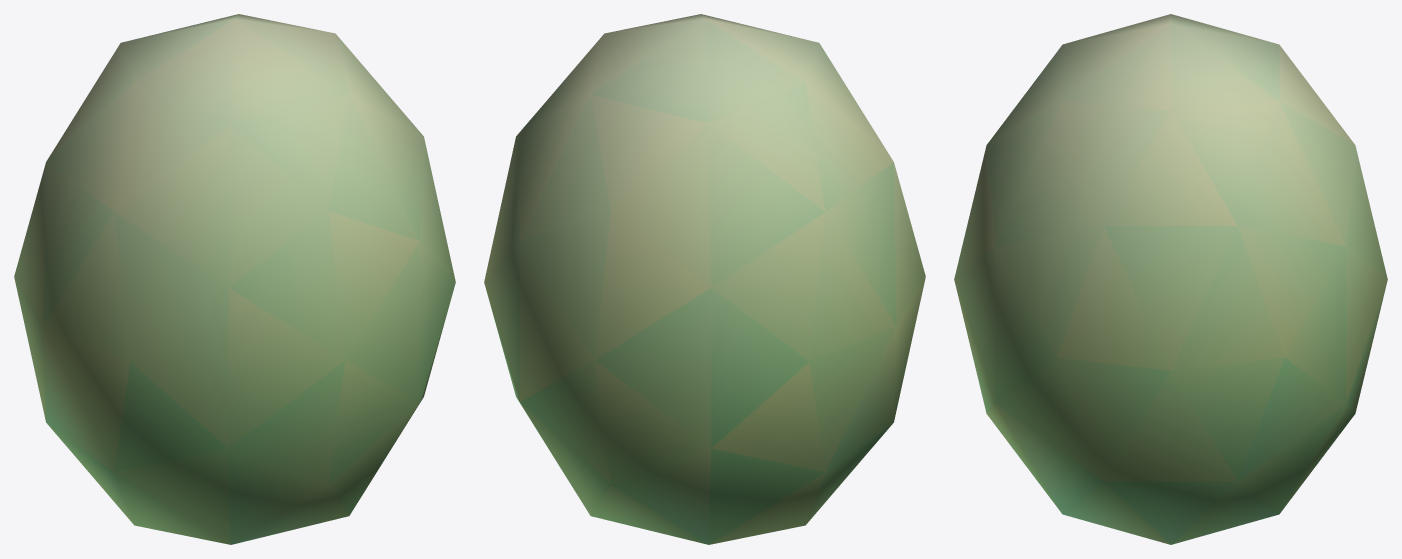
Rendered from blob.glb.
The picture shows the model from 3 angles, left to right: view 1: azimuth 30°, elevation 25°; view 2: azimuth 150°, elevation 25°; view 3: azimuth 270°, elevation 25°; orthographic projection.
Size of the model in its own units: 1 by 1.3 by 1.
